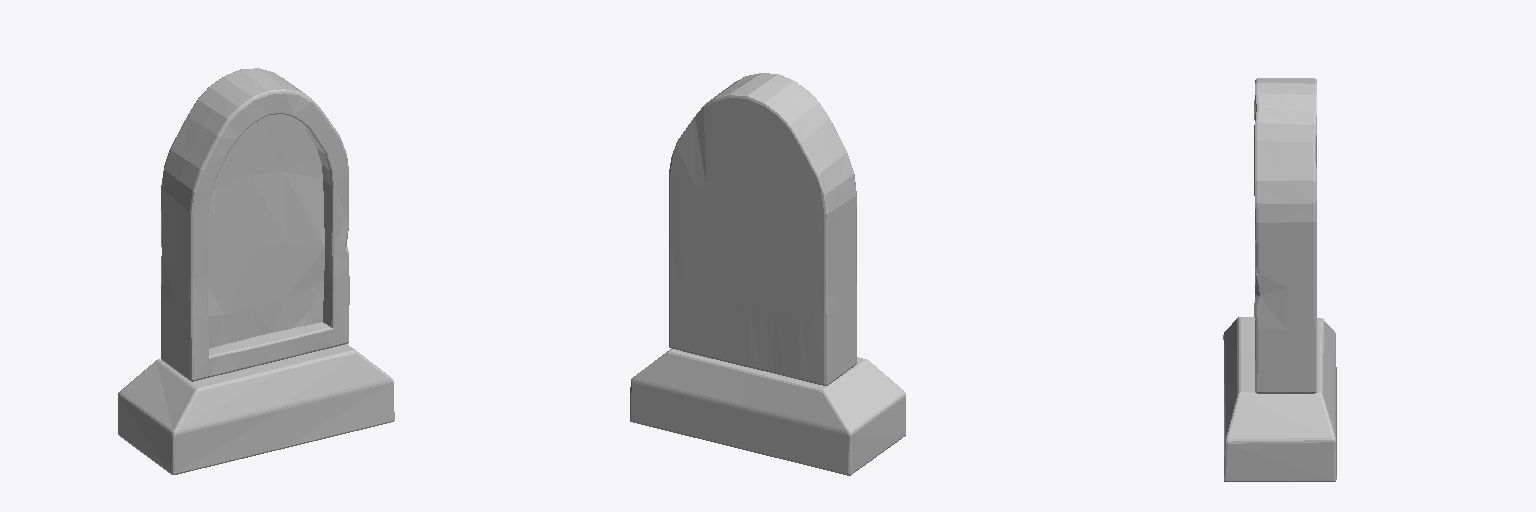
Rendered from Grabstein01_LP.obj.
3 renders of one model, left to right at view 1: azimuth 30°, elevation 25°; view 2: azimuth 150°, elevation 25°; view 3: azimuth 270°, elevation 25°, orthographic.
Parts seen in each view (by area): view 1: ZBrush_defualt_group; view 2: ZBrush_defualt_group; view 3: ZBrush_defualt_group.
Part boxes in pixels (left/top/right/bottom): ZBrush_defualt_group: left=118, top=68, right=394, bottom=474; ZBrush_defualt_group: left=630, top=73, right=905, bottom=475; ZBrush_defualt_group: left=1223, top=78, right=1336, bottom=481.
Size of the model in its own units: 3.05 by 4.54 by 1.34.